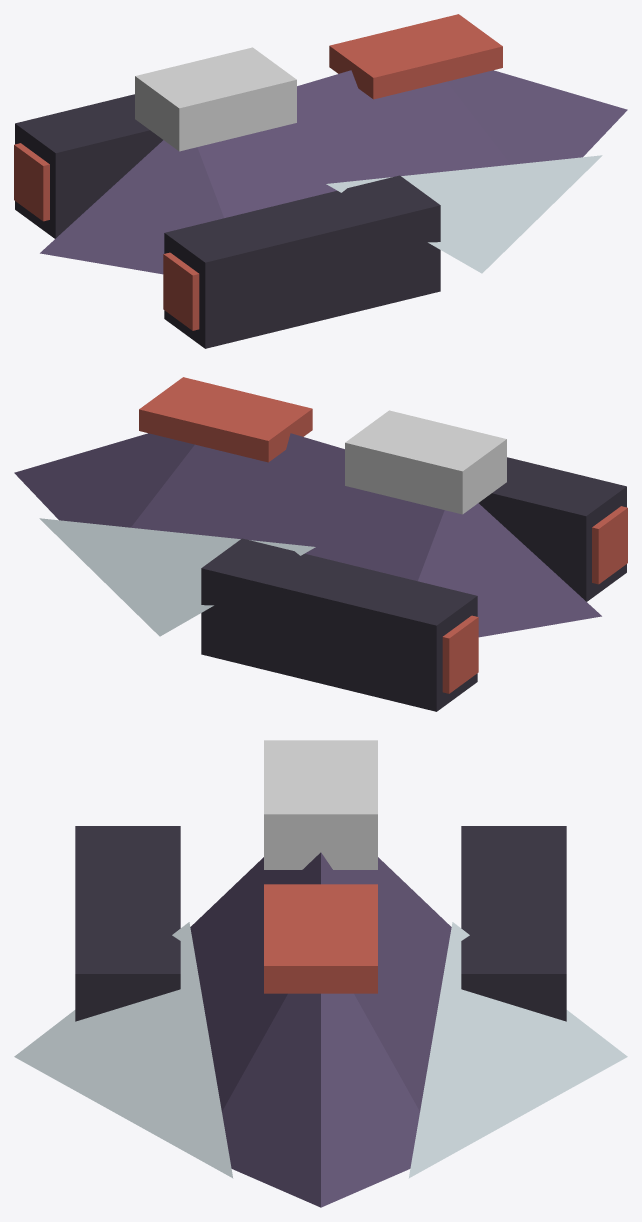
The model's file is space_scene_quiet_intercept.glb.
The picture shows the model from 3 angles, top to bottom: view 1: azimuth 30°, elevation 25°; view 2: azimuth 150°, elevation 25°; view 3: azimuth 270°, elevation 25°; orthographic projection. The views are drawn at different scales.
Parts seen in each view (by area): view 1: FixedDetails, WoodBody, BrassTrim; view 2: FixedDetails, WoodBody, BrassTrim; view 3: FixedDetails, BrassTrim, WoodBody.
Boxes of the visible parts, x1=… form: FixedDetails: x1=14, y1=14, x2=627, y2=348; WoodBody: x1=135, y1=47, x2=296, y2=151; BrassTrim: x1=326, y1=155, x2=602, y2=273; FixedDetails: x1=14, y1=377, x2=627, y2=711; WoodBody: x1=345, y1=410, x2=506, y2=514; BrassTrim: x1=39, y1=518, x2=315, y2=636; FixedDetails: x1=75, y1=826, x2=566, y2=1207; BrassTrim: x1=14, y1=922, x2=627, y2=1178; WoodBody: x1=264, y1=740, x2=377, y2=869.
Size of the model in its own units: 1 by 0.285 by 0.7.
